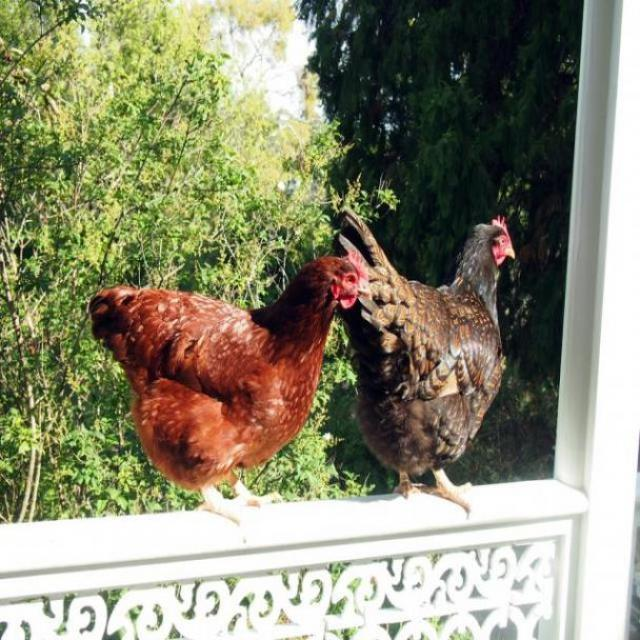Chicken: (90, 220, 381, 506), (326, 204, 526, 522)
